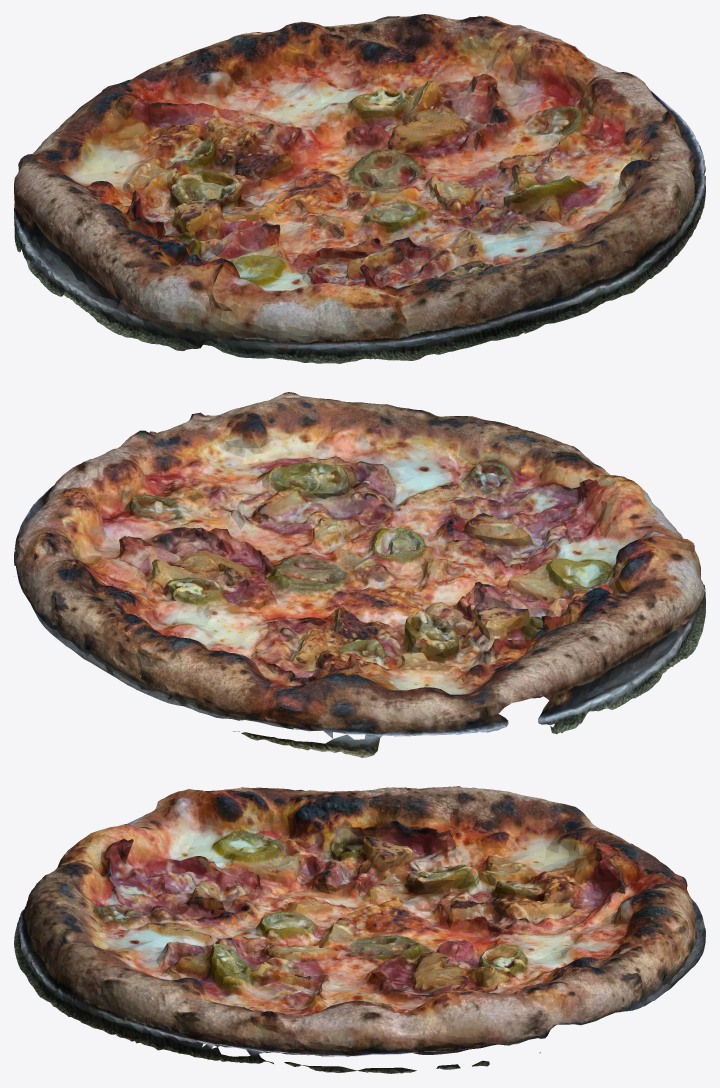
3 views of the same model, one above another, from view 1: azimuth 30°, elevation 25°; view 2: azimuth 150°, elevation 25°; view 3: azimuth 270°, elevation 25° (orthographic).
Parts seen in each view (by area): view 1: mesh_0; view 2: mesh_0; view 3: mesh_0.
Part boxes in pixels (x1,y1,x2,y2): mesh_0: (14, 14, 705, 363); mesh_0: (14, 392, 705, 757); mesh_0: (14, 786, 705, 1073).
Bounding box in the file's own units: 1.27 × 0.192 × 1.27.
Materials: 1 (1 with a texture image).
